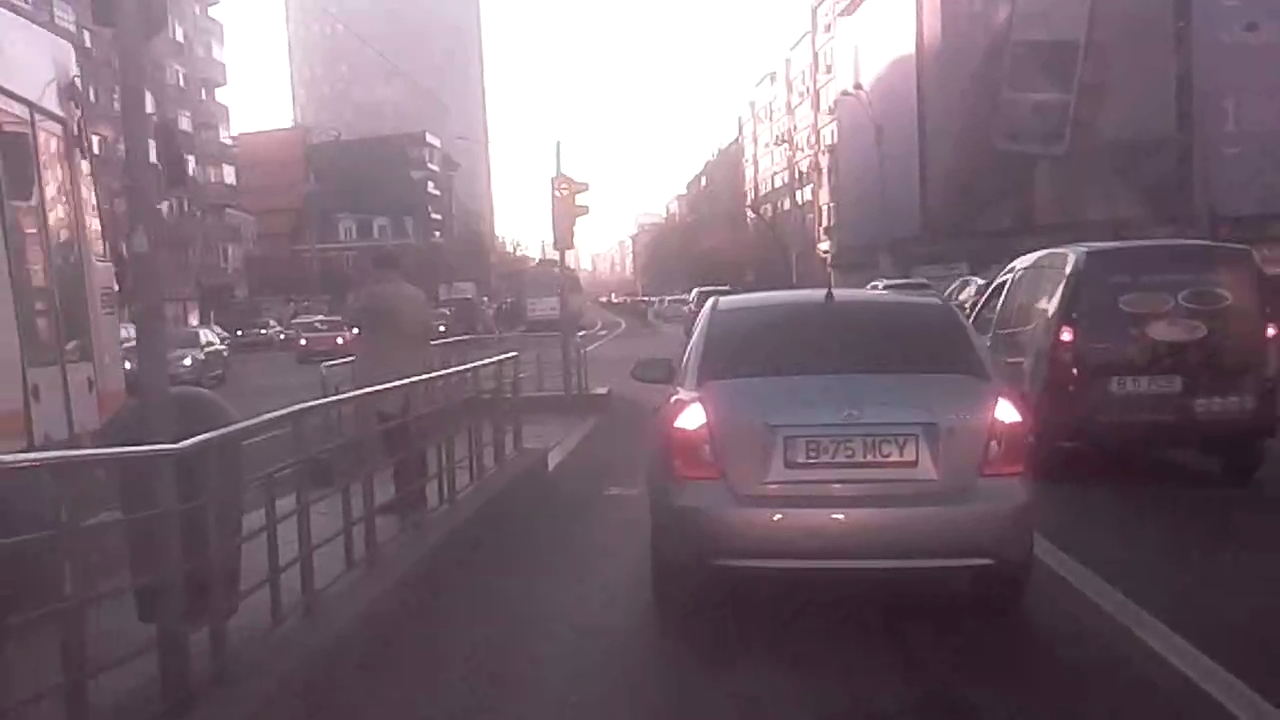license-plate: (782, 432, 922, 469)
